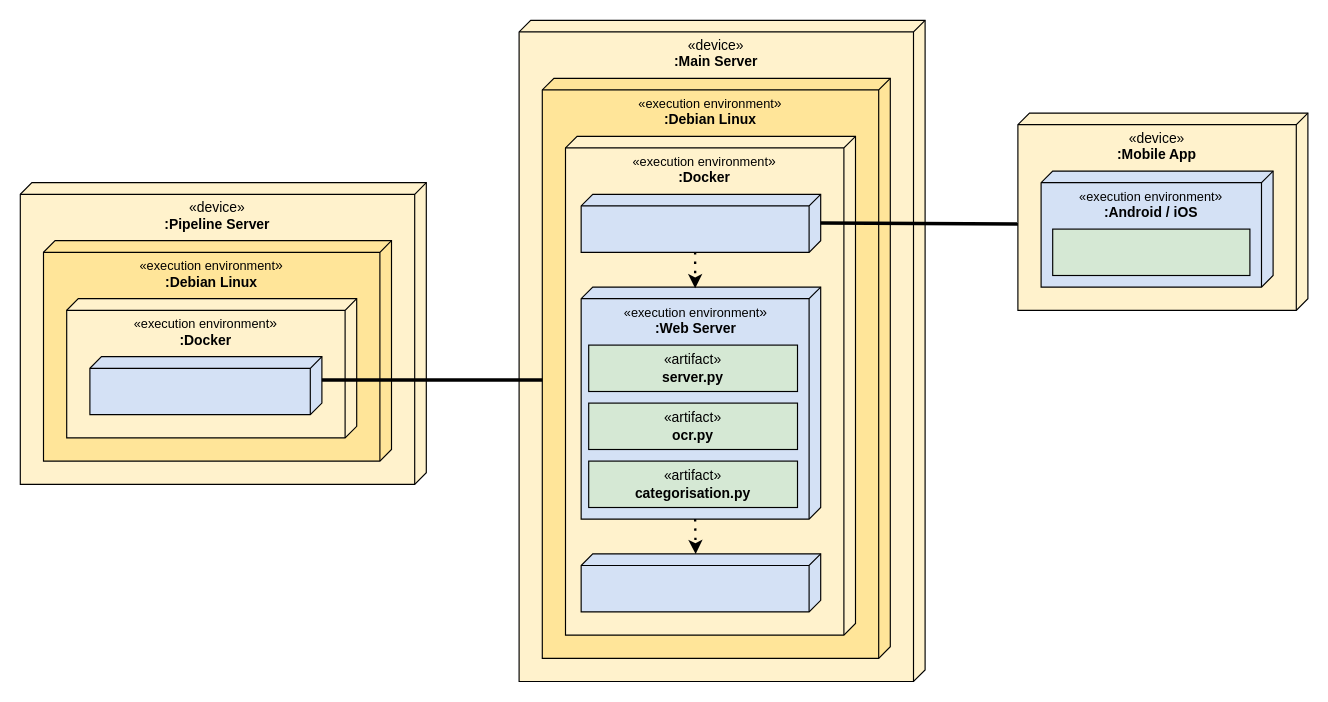
Image size: 1328x702. Some labels were removed from this diagram. The shapes that lost their labels are listed below. From the top down, each one's centre as x and y in pixels, then its label:
[700,222]: «execution environment » :Web Proxy
[1151,252]: «artifact» app.apk
[205,385]: «execution environment » :GitLab Pipeline
[700,582]: «execution environment » :Database
